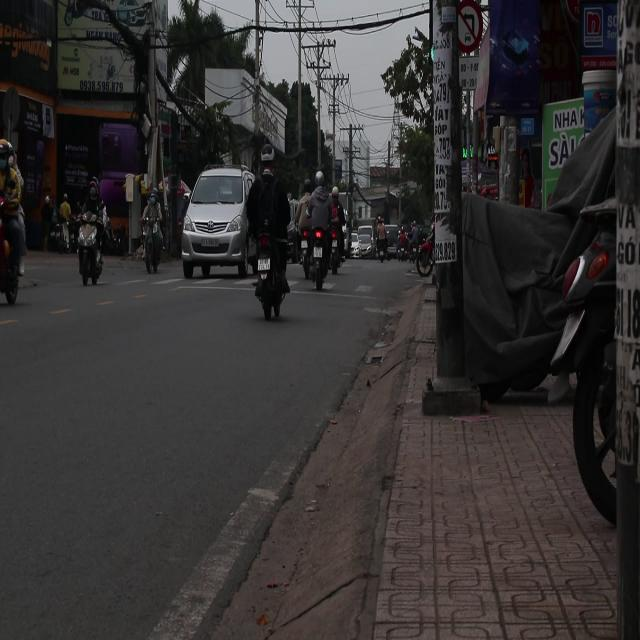bus: (86, 120, 146, 212)
car: (182, 168, 255, 282), (352, 227, 376, 258)
motorbike: (251, 223, 288, 332), (72, 212, 111, 274), (298, 218, 332, 288), (137, 214, 161, 282), (416, 236, 436, 277)
